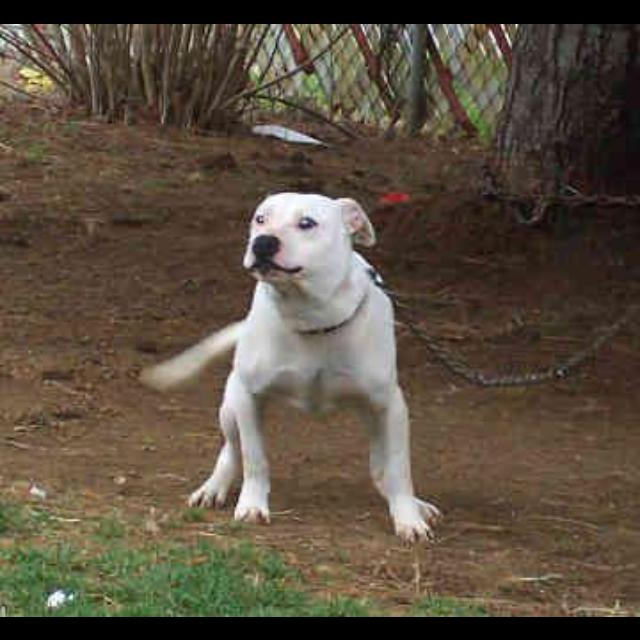amstaff: (139, 190, 444, 547)
